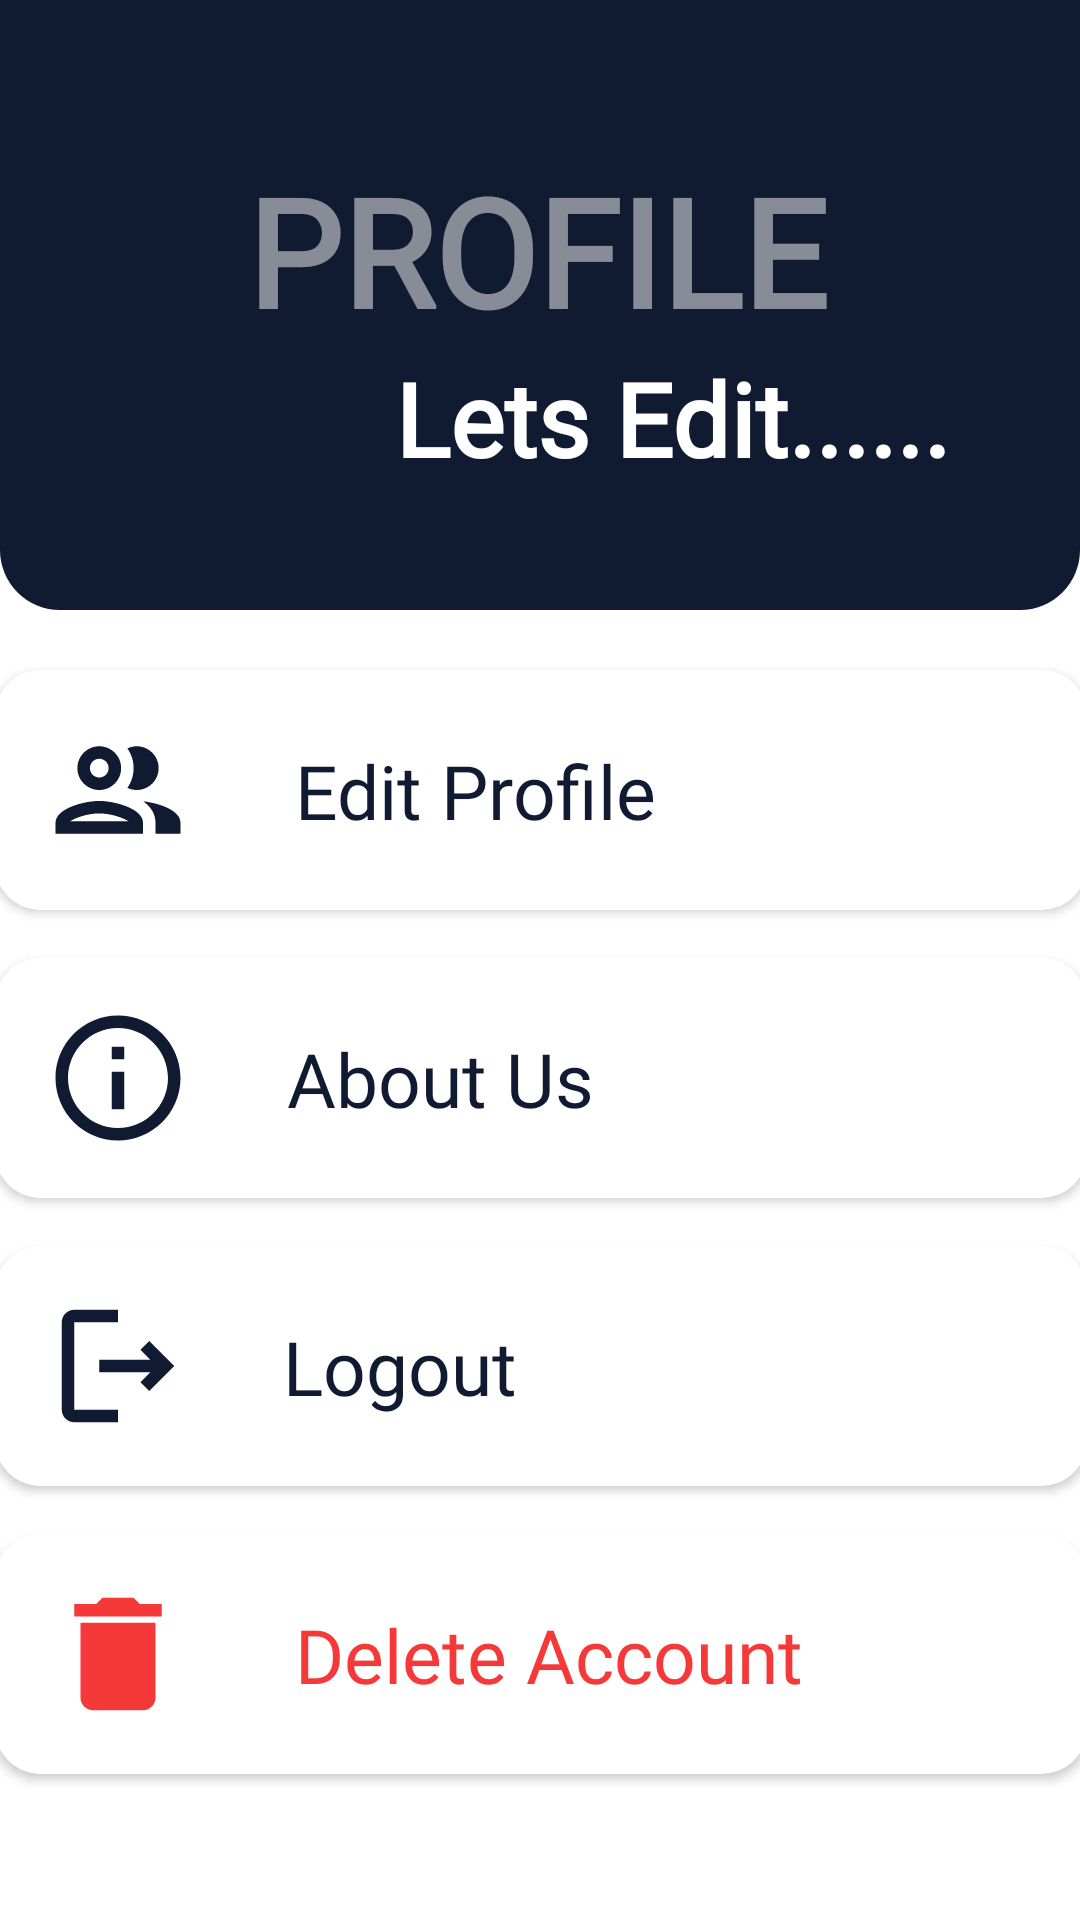

Icons on this 1080*1920 Android screen, each with the point to tap as point (x, y):
info: point (118, 1078)
people: point (118, 790)
